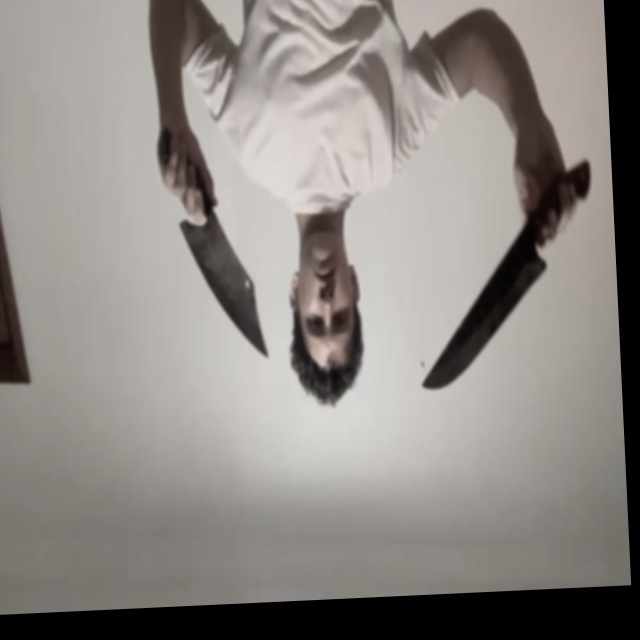Sharp-Object: (416, 253, 552, 393), (180, 217, 269, 363)
